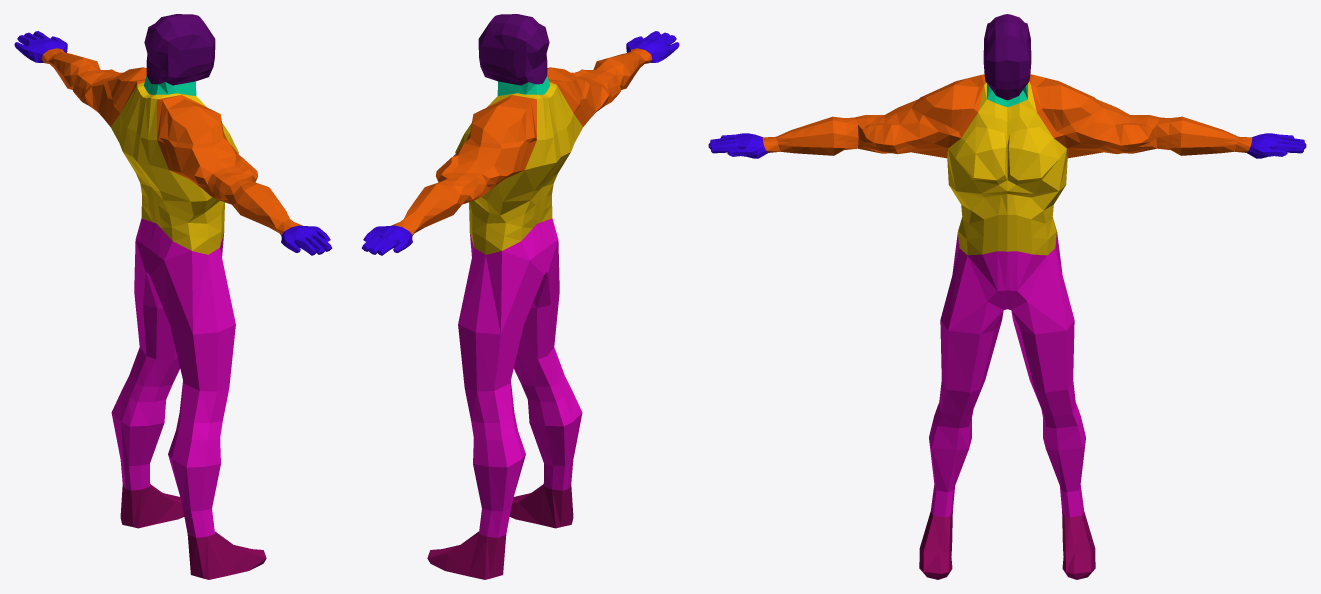
File: chracter_seamed.fbx
The picture shows the model from 3 angles, left to right: view 1: azimuth 30°, elevation 25°; view 2: azimuth 150°, elevation 25°; view 3: azimuth 270°, elevation 25°; orthographic projection.
Visible parts, largest first — view 1: Cube; view 2: Cube; view 3: Cube.
Boxes of the visible parts, x1,y1,x2,y2 form: Cube: (14,14,332,579); Cube: (361,14,679,579); Cube: (708,14,1306,579).
Bounding box in the file's own units: 123 × 619 × 626.
